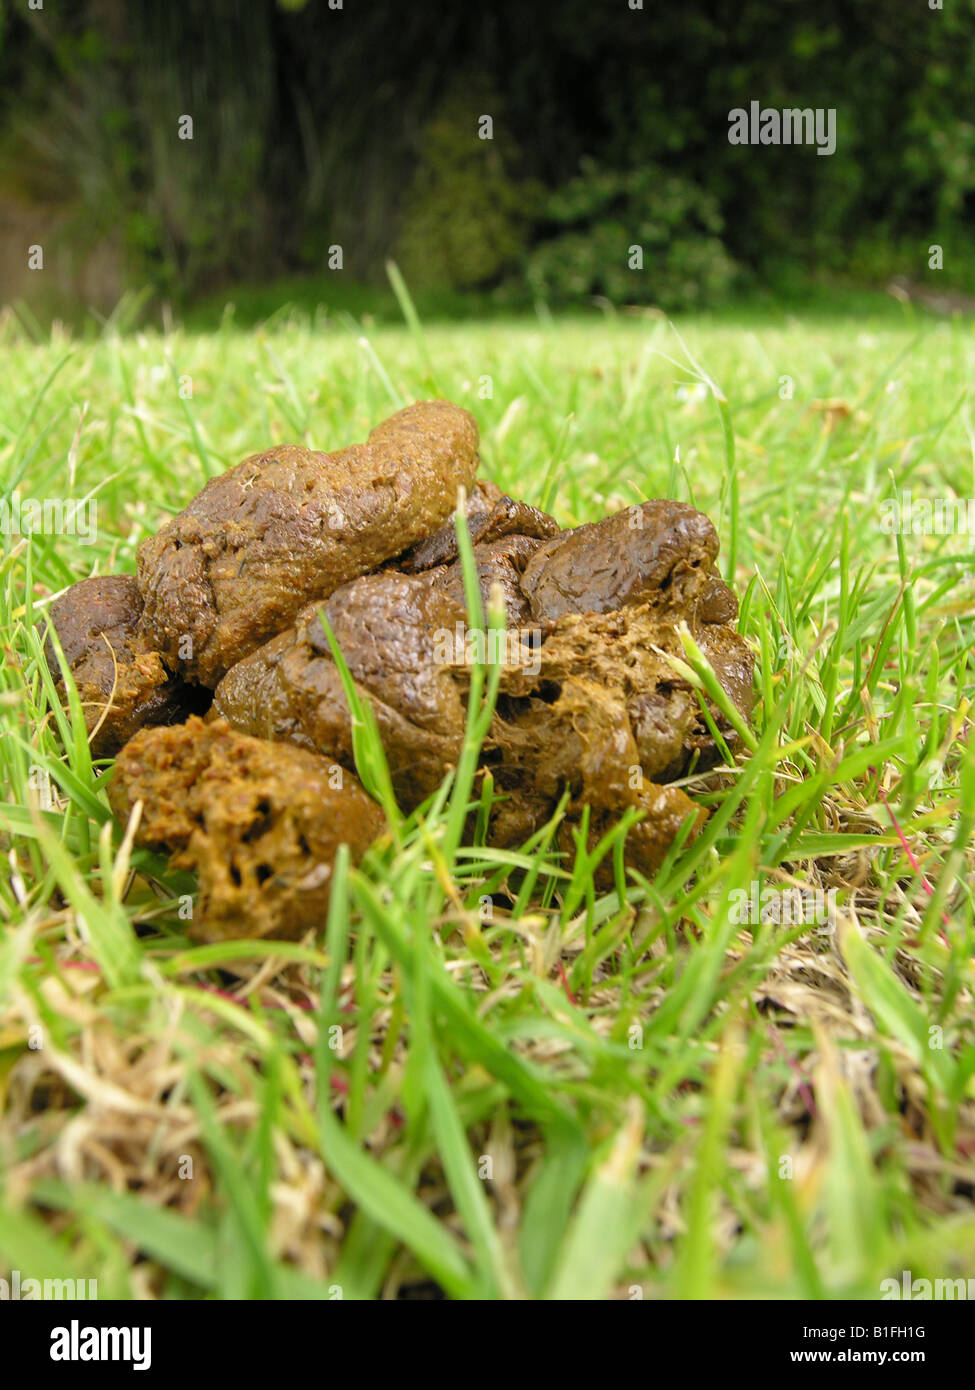Dog: (54, 425, 757, 881)
